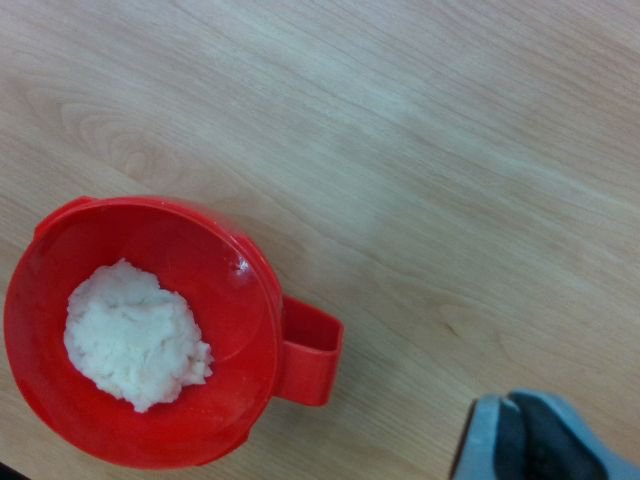mashed_potato: (63, 262, 214, 412)
